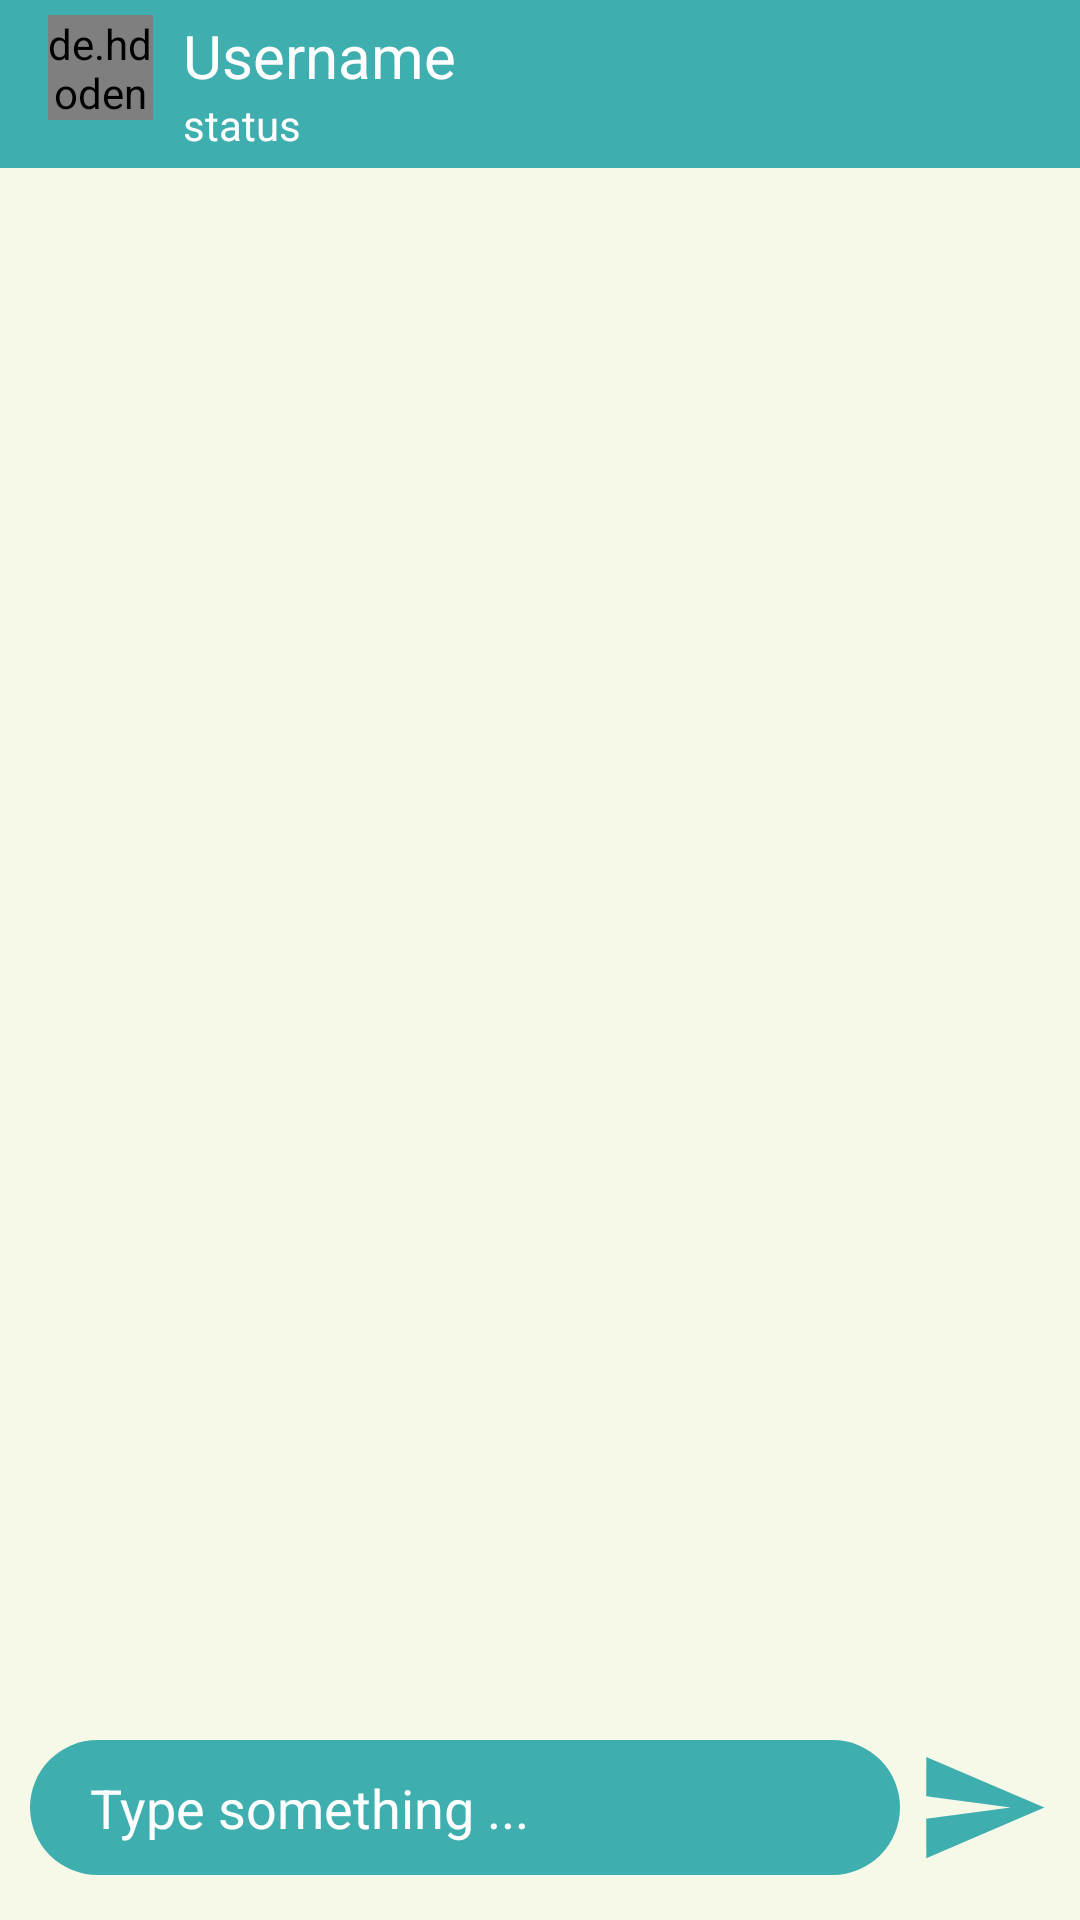

Locate icon controls on the screen. Image size 1080px×1920px, boxes as (x1, y1, x2, y2).
send: (926, 1757, 1044, 1858)
